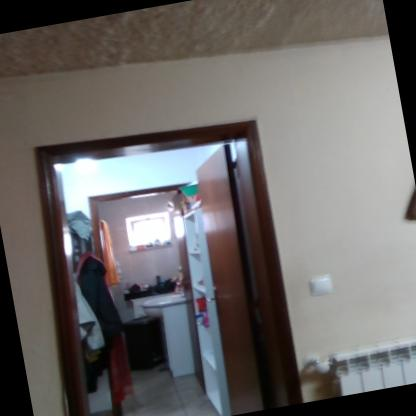open: (18, 85, 317, 415)
